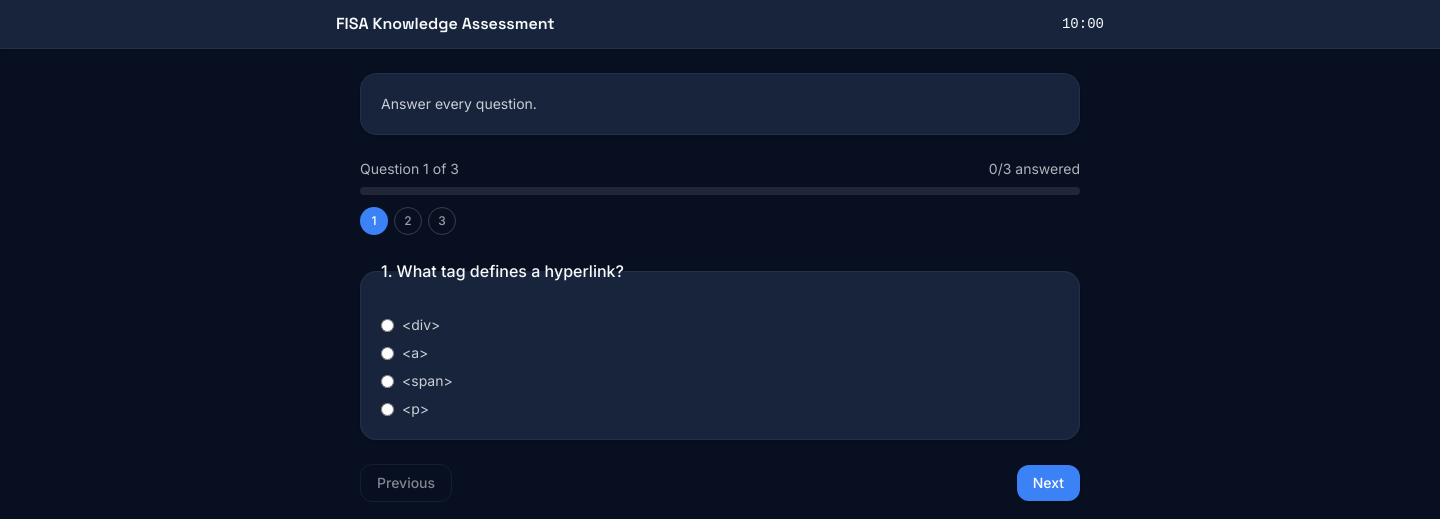
it: McqExamPage — one-question-at-a-time navigation and progress › selecting an answer updates the answered count and the per-question navigator
Expected: the text "Question 1 of 3" is shown, [360,159,459,179]
Click the radio button labelled "<a>": (388, 353) [381,346,394,360]
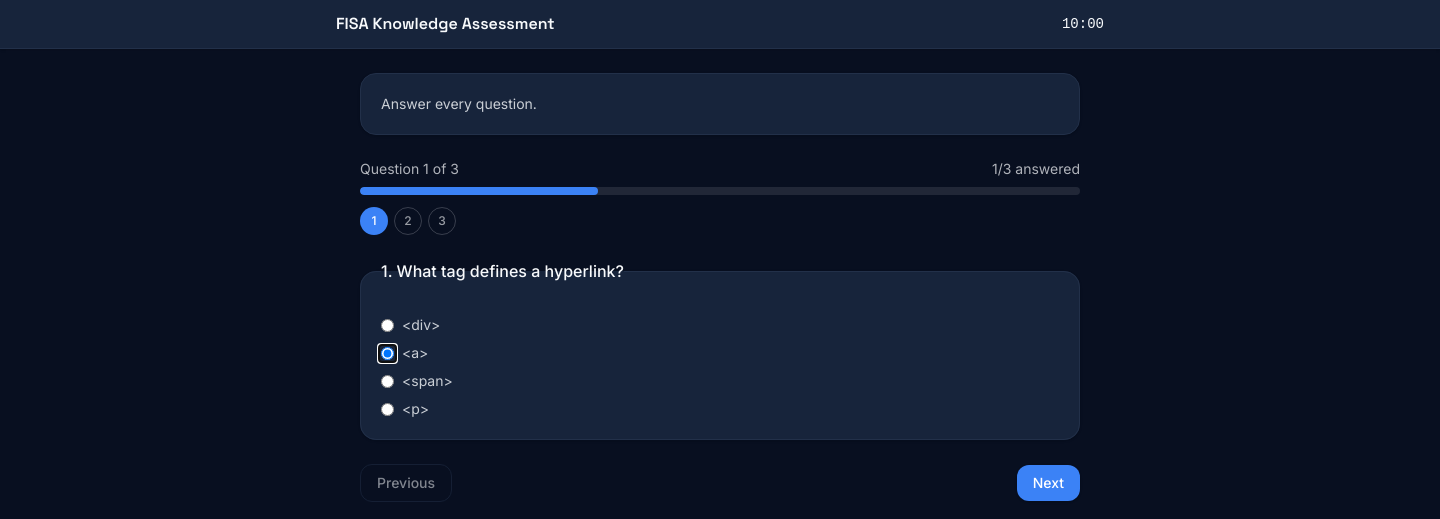
Expected: the text "1/3 answered" is shown, [992,159,1080,179]
